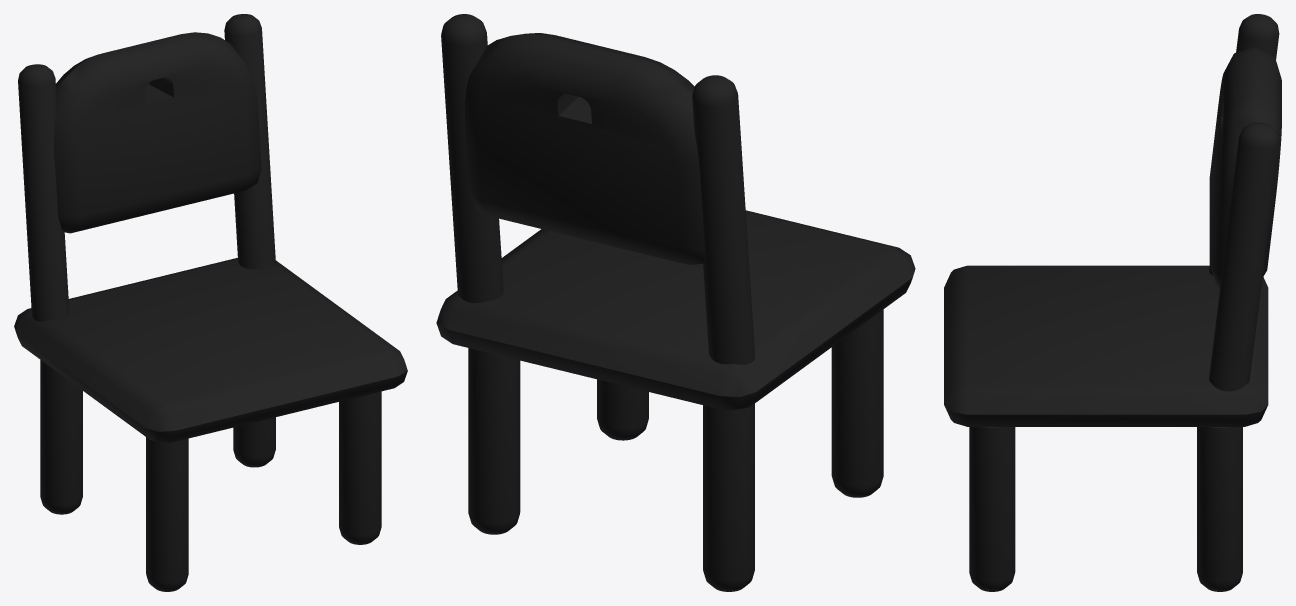
The model's file is test_chair1.fbx.
3 views of the same model, side by side, from view 1: azimuth 30°, elevation 25°; view 2: azimuth 150°, elevation 25°; view 3: azimuth 270°, elevation 25° (orthographic). The views are drawn at different scales.
Parts seen in each view (by area): view 1: Cube.031, Cube.032, Cylinder.013, Cylinder.011; view 2: Cube.031, Cube.032, Cylinder.013, Cylinder.011; view 3: Cube.031, Cylinder.013, Cylinder.011, Cube.032.
Part boxes in pixels (x1,y1,x2,y2): Cube.031: [14, 257, 407, 442]; Cube.032: [54, 32, 261, 233]; Cylinder.013: [40, 360, 381, 591]; Cylinder.011: [18, 14, 275, 321]; Cube.031: [436, 210, 915, 410]; Cube.032: [465, 33, 705, 264]; Cylinder.013: [468, 309, 883, 591]; Cylinder.011: [441, 14, 754, 364]; Cube.031: [944, 265, 1268, 426]; Cylinder.013: [969, 427, 1242, 591]; Cylinder.011: [1209, 14, 1279, 391]; Cube.032: [1209, 47, 1281, 287].
Size of the model in its own units: 135 by 214 by 140.
